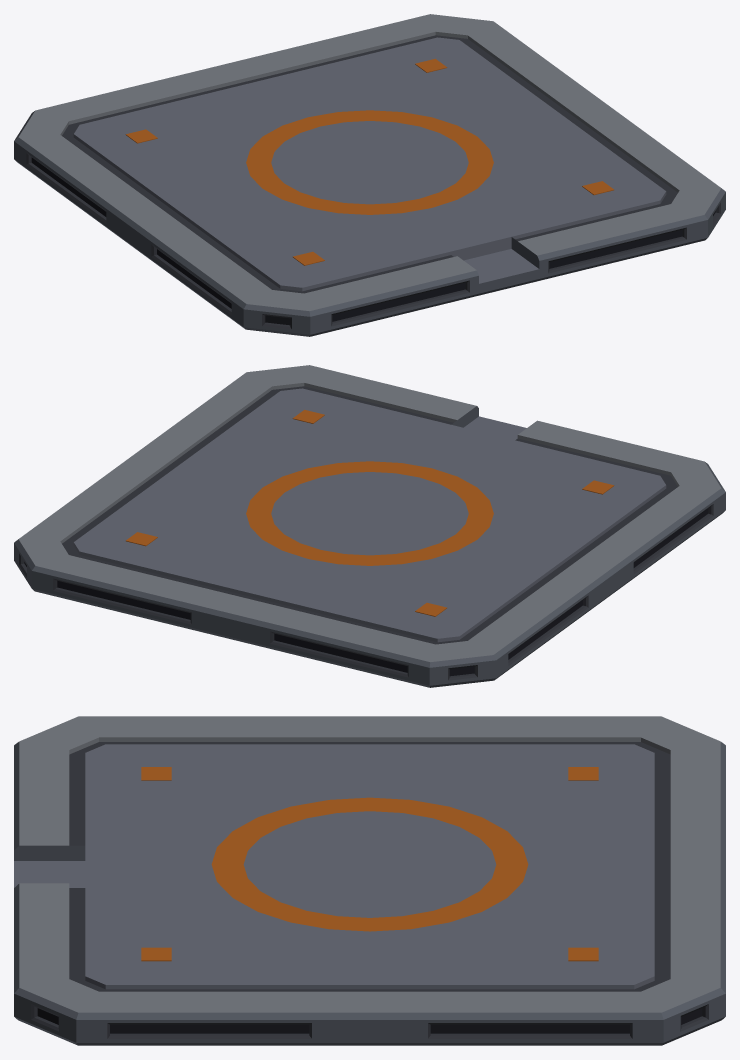
Rendered from landing-pad-781932.glb.
The picture shows the model from 3 angles, top to bottom: view 1: azimuth 30°, elevation 25°; view 2: azimuth 150°, elevation 25°; view 3: azimuth 270°, elevation 25°; orthographic projection. The views are drawn at different scales.
Visible parts, largest first — view 1: pad; view 2: pad; view 3: pad.
Boxes of the visible parts, bbox=[...] form: pad: bbox=[14, 14, 725, 336]; pad: bbox=[14, 365, 725, 687]; pad: bbox=[14, 716, 725, 1045].
Size of the model in its own units: 8 by 0.41 by 8.
